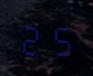five: (46, 20, 72, 56)
two: (19, 19, 45, 55)
